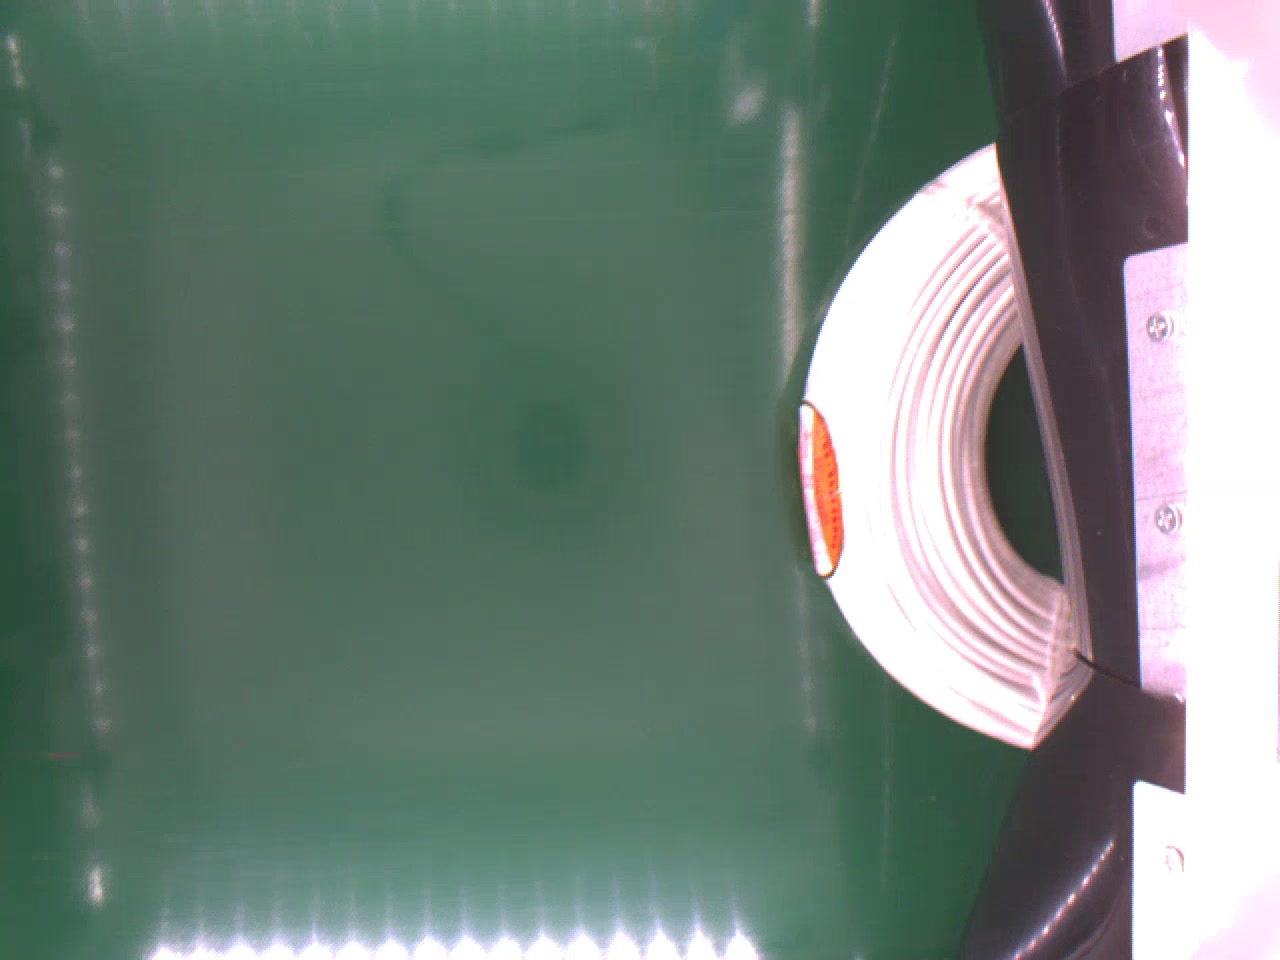white: (792, 136, 1072, 747)
